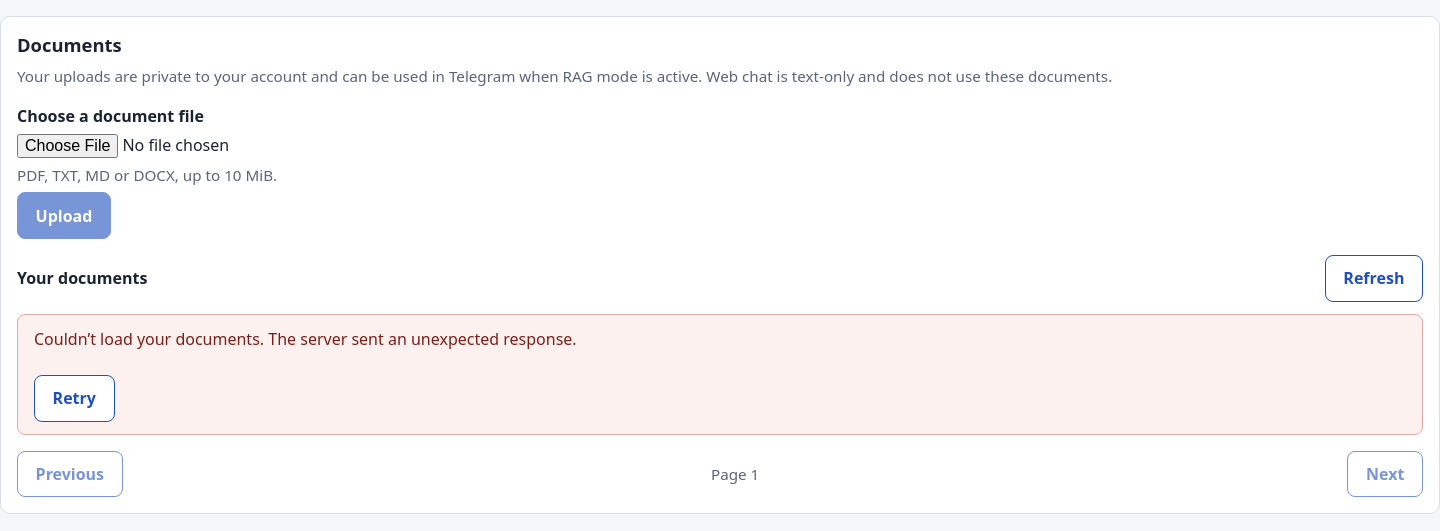
Test: load failure and Retry › after an extra key in the body: a safe local error, an explicit Retry that can succeed, and no automatic retry
The image size is (1440, 531).
expect the message shows "Couldn’t load your documents.": met, box [34,328,268,350]
expect the message shows "The server sent an unexpected response.": met, box [268,328,577,350]
Click the button "Retry" at (74,398), box [34,375,114,422]
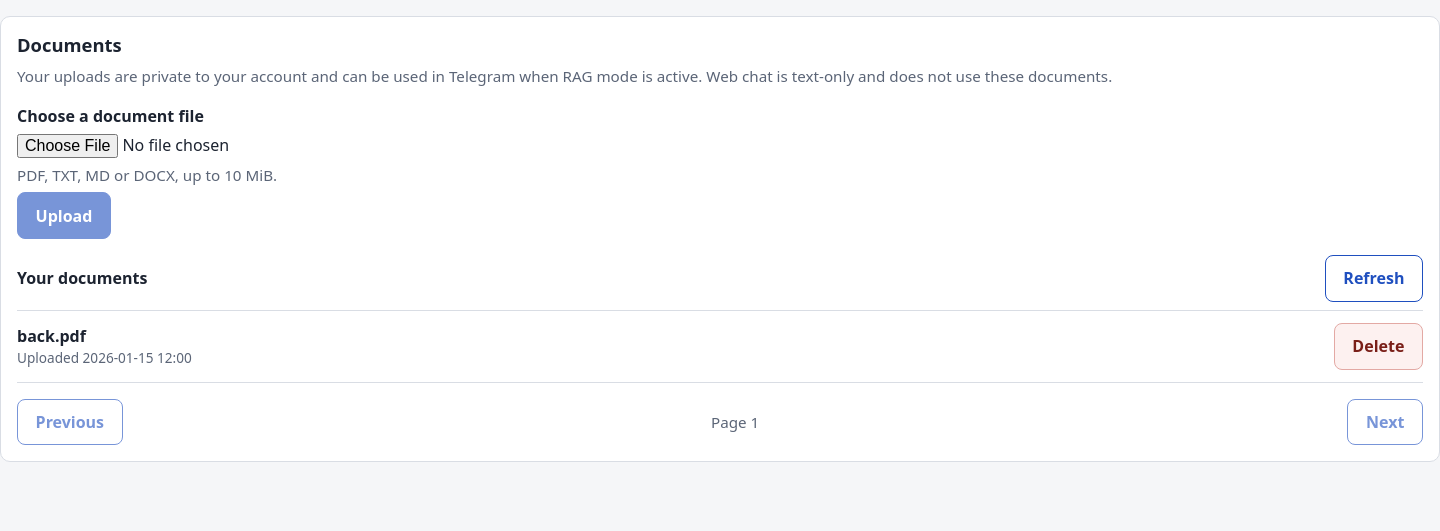
expect the message "Couldn’t load your documents. The server sent an unexpected response. Retry" is gone: met
